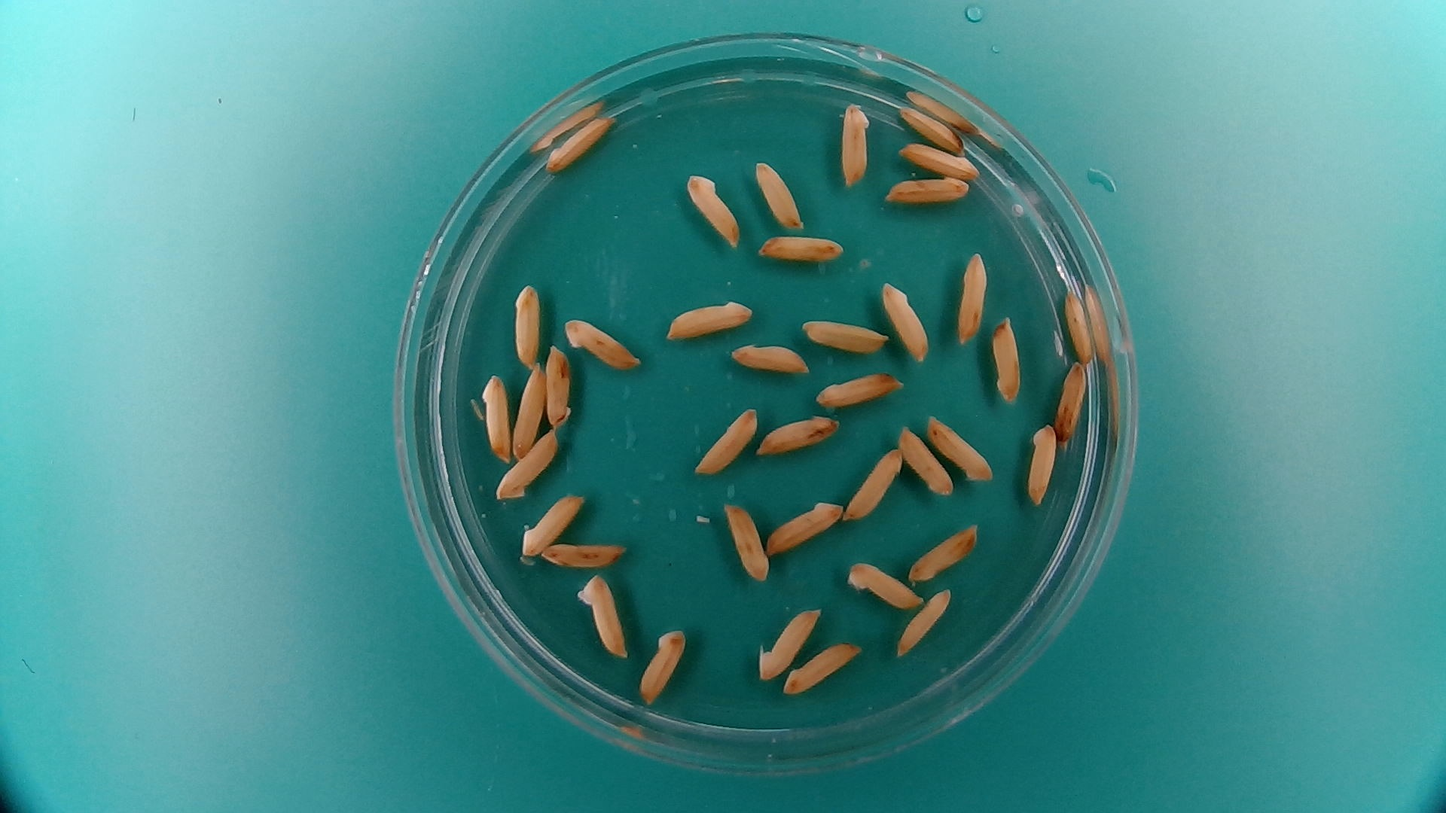no: (754, 603, 823, 681), (637, 620, 695, 711), (492, 425, 561, 499), (923, 413, 995, 483), (691, 403, 760, 476), (516, 489, 586, 559), (575, 571, 630, 660), (560, 314, 645, 371), (761, 497, 847, 553), (780, 638, 864, 695), (541, 112, 618, 174), (844, 444, 904, 522), (907, 521, 981, 583), (685, 169, 743, 248), (879, 279, 932, 361), (844, 558, 924, 610), (721, 499, 770, 583), (897, 424, 953, 497), (895, 586, 953, 656), (663, 298, 755, 342), (509, 361, 548, 459), (810, 369, 904, 409), (752, 159, 804, 230), (755, 413, 840, 456), (798, 316, 891, 355), (895, 103, 966, 153), (476, 367, 512, 463), (896, 139, 980, 178), (956, 248, 989, 346), (538, 537, 629, 571), (990, 313, 1024, 404), (728, 339, 811, 376), (881, 173, 972, 205), (838, 99, 871, 187), (1053, 360, 1086, 448), (759, 231, 845, 263), (1025, 422, 1057, 507), (511, 281, 542, 368), (544, 341, 573, 428), (1063, 287, 1095, 365)
